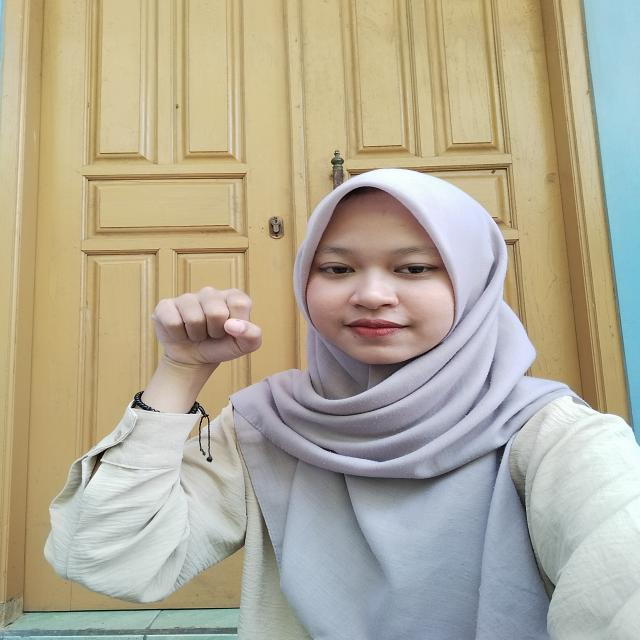baik: (131, 282, 271, 430)
